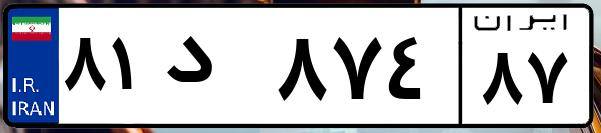1: (110, 28, 158, 98)
4: (385, 28, 445, 110)
7: (330, 28, 385, 110), (525, 38, 570, 115)
8: (270, 28, 330, 110), (57, 26, 110, 100), (475, 38, 525, 113)
د: (158, 20, 270, 120)
